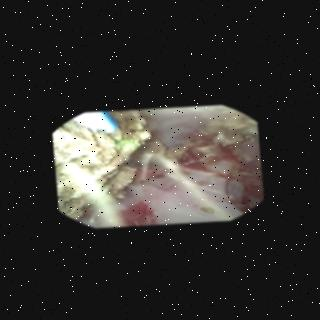laser: (118, 138, 137, 148)
stone: (55, 110, 150, 216), (201, 113, 254, 143), (140, 140, 191, 166)
